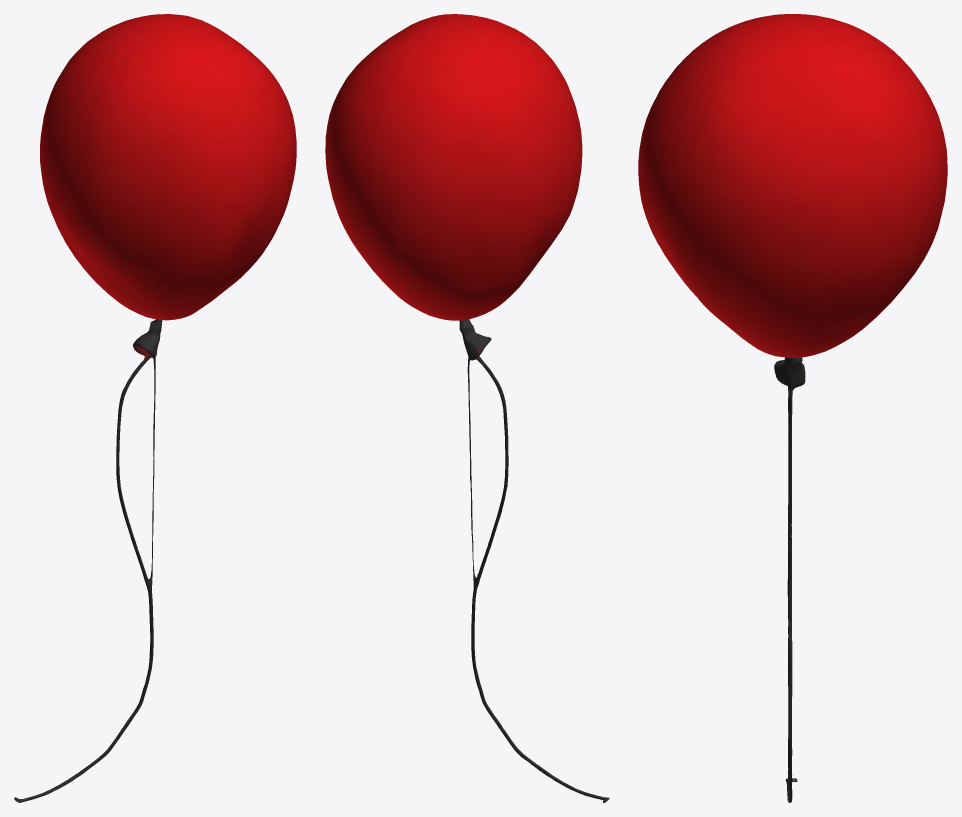
The model's file is globo.glb.
The picture shows the model from 3 angles, left to right: view 1: azimuth 30°, elevation 25°; view 2: azimuth 150°, elevation 25°; view 3: azimuth 270°, elevation 25°; orthographic projection. The views are drawn at different scales.
Bounding box in the file's own units: 0.7078 × 1.9 × 0.6355.
Materials: 1 (1 with a texture image).
